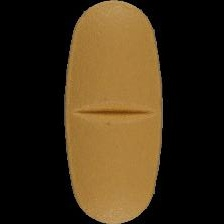62756-184: (0, 0, 224, 224)
